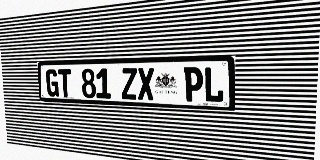1: (95, 68, 111, 99)
8: (81, 68, 96, 98)
G: (46, 69, 59, 97)
L: (204, 66, 224, 103)
P: (184, 67, 203, 102)
T: (58, 69, 72, 97)
X: (137, 68, 154, 100)
Z: (121, 68, 137, 100)
